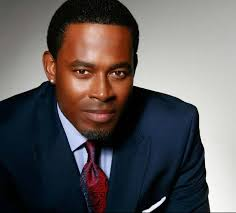black_male: (37, 7, 147, 126)
